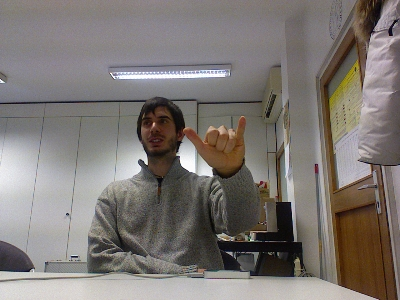六六六: (181, 113, 248, 171)
